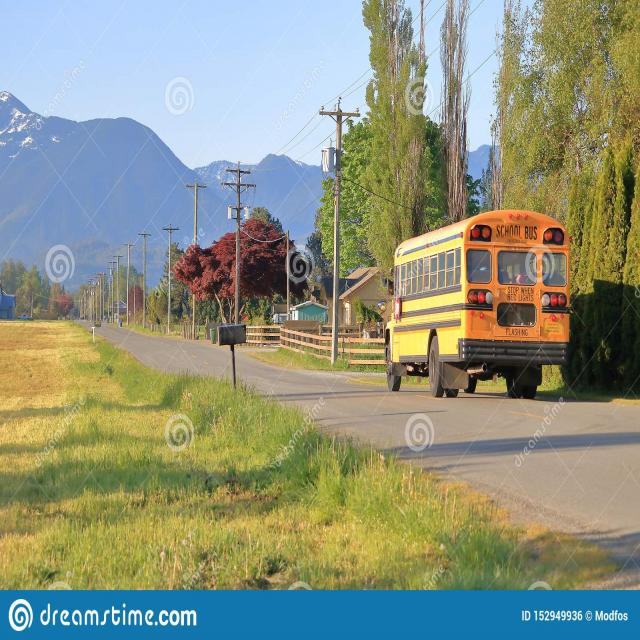BUS: (324, 191, 577, 386)
